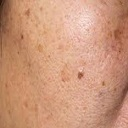Actinic: (107, 21, 125, 43), (73, 68, 92, 84)
